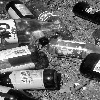beer: (1, 67, 61, 91)
